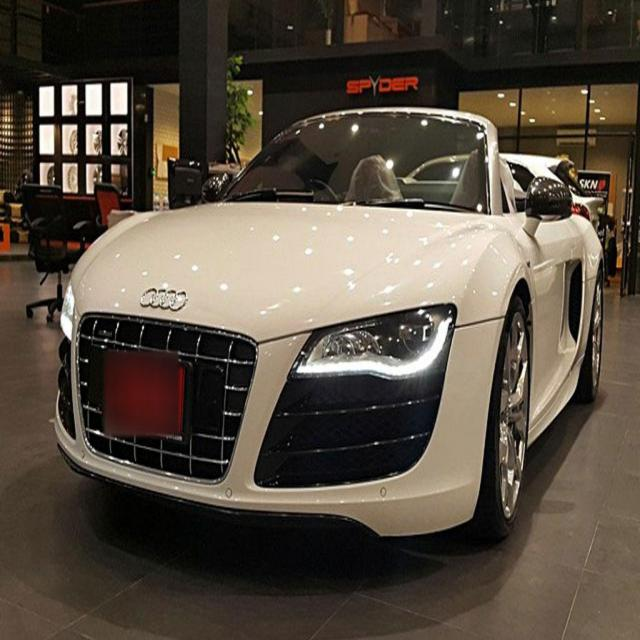front_bumper: (55, 315, 501, 540)
front_glass: (224, 111, 492, 217)
front_left_door: (505, 209, 575, 428)
front_left_light: (291, 301, 458, 384)
front_right_light: (59, 277, 76, 341)
hood: (70, 201, 527, 347)
left_mirror: (519, 176, 573, 238)
wheel: (454, 296, 531, 545), (569, 267, 604, 404)
